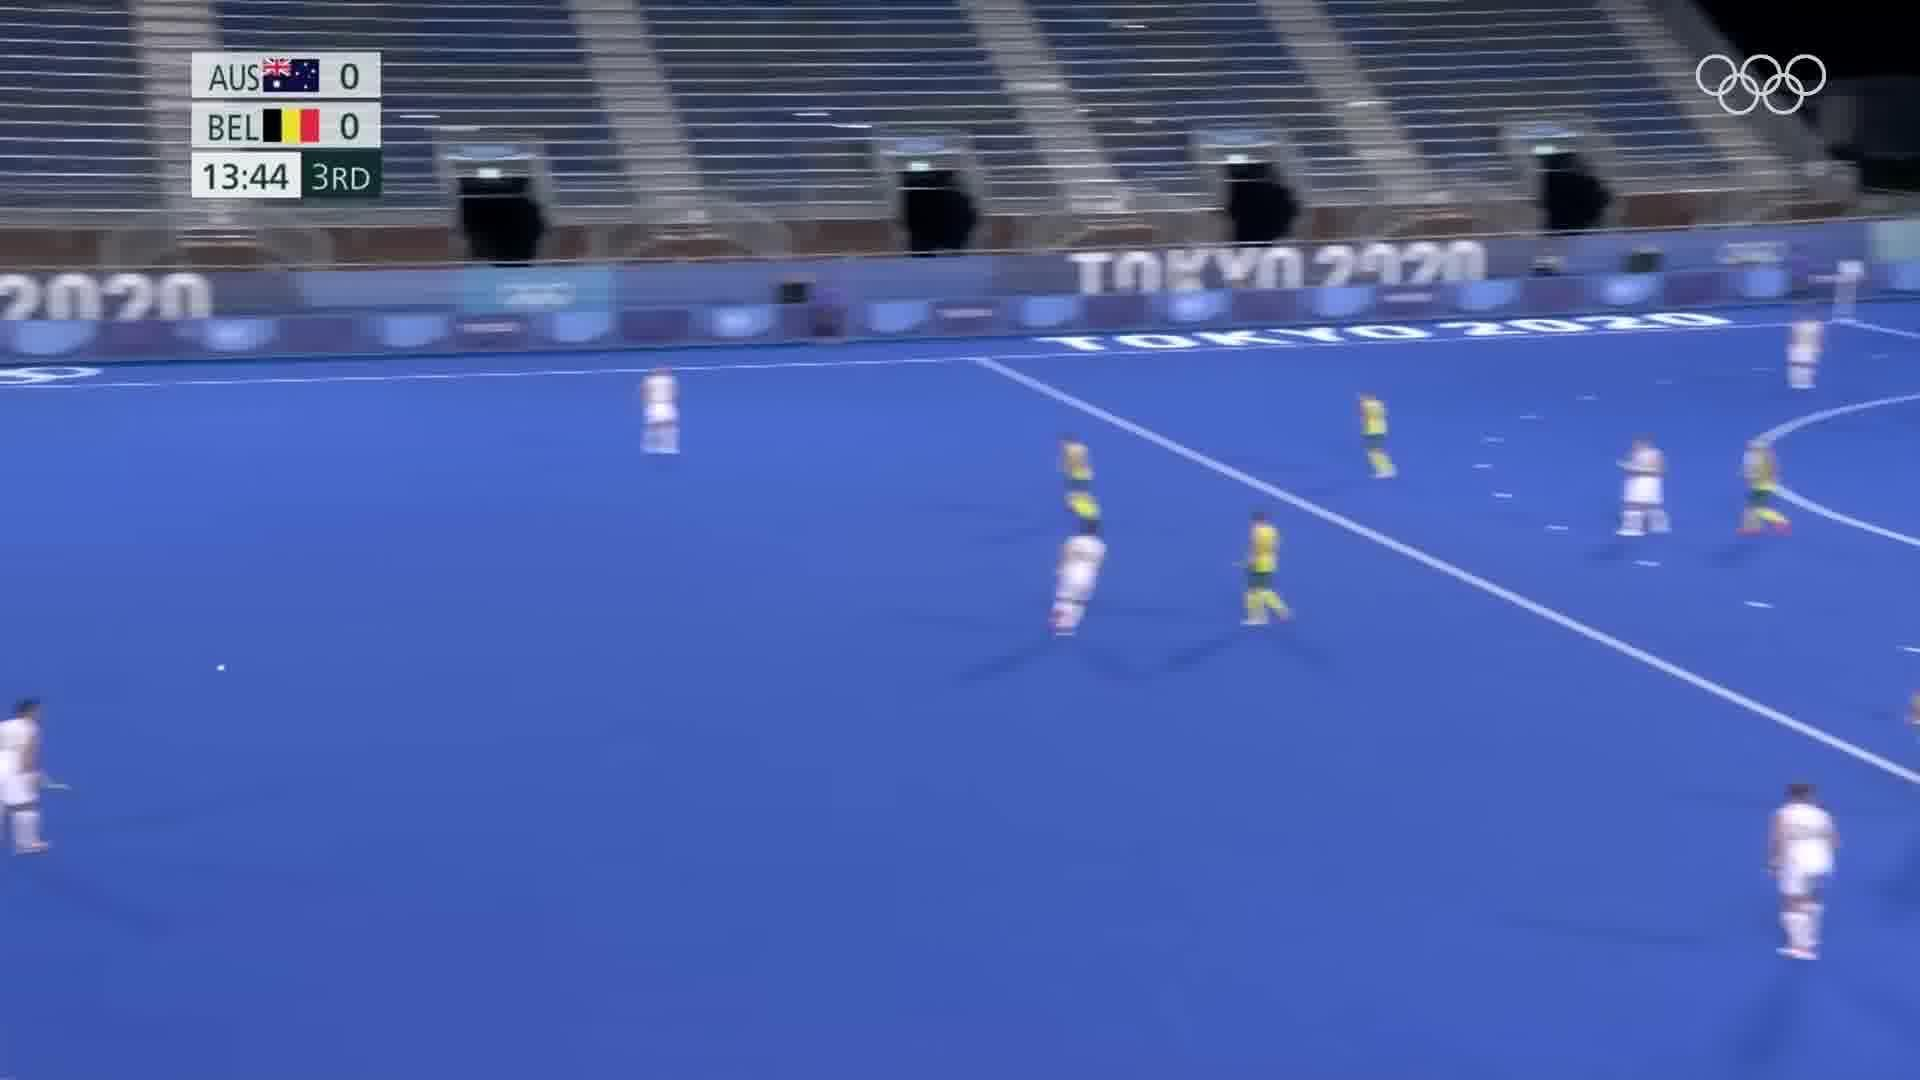ball: (204, 653, 236, 684)
